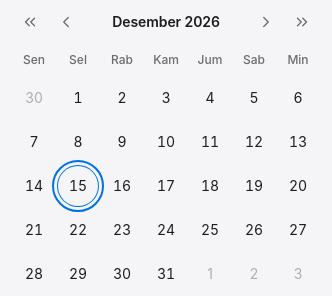
Calendar: navigation › wraps December to January across the year
Click the button named "Bulan berikutnya".
click(266, 22)  # box [248,4,284,40]
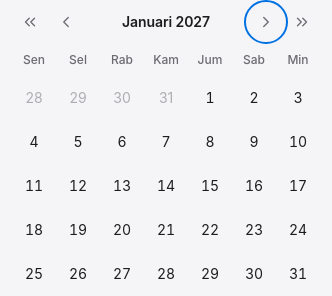
Expected: the heading "Januari 2027" is shown, [122,12,210,32]
